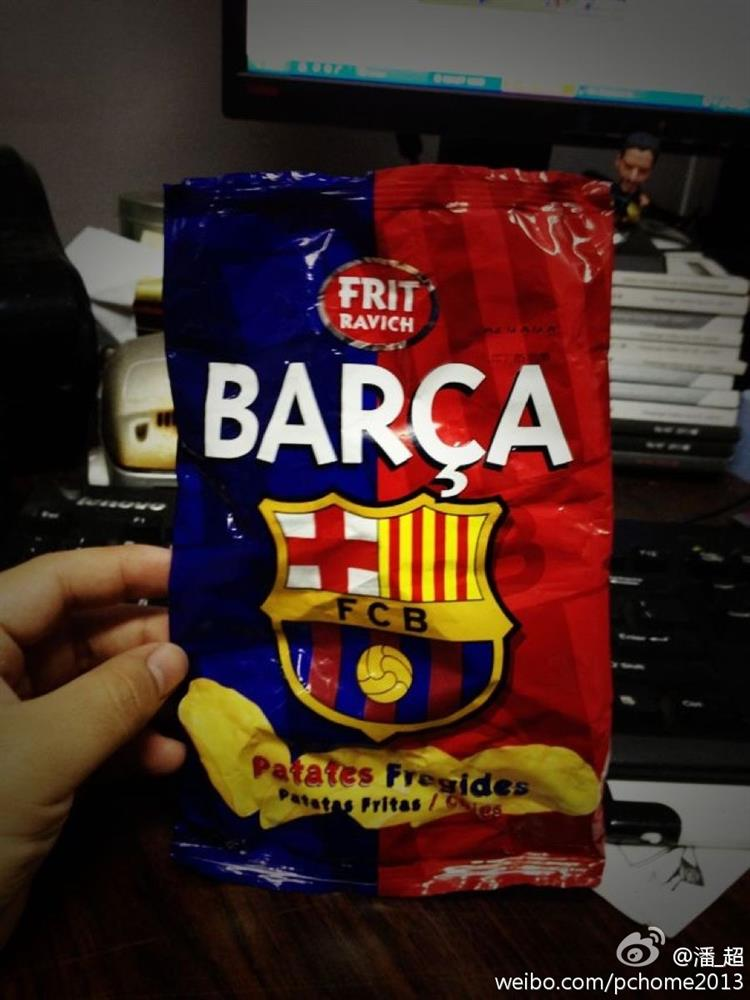BarcelonaFC: (257, 496, 511, 733)
